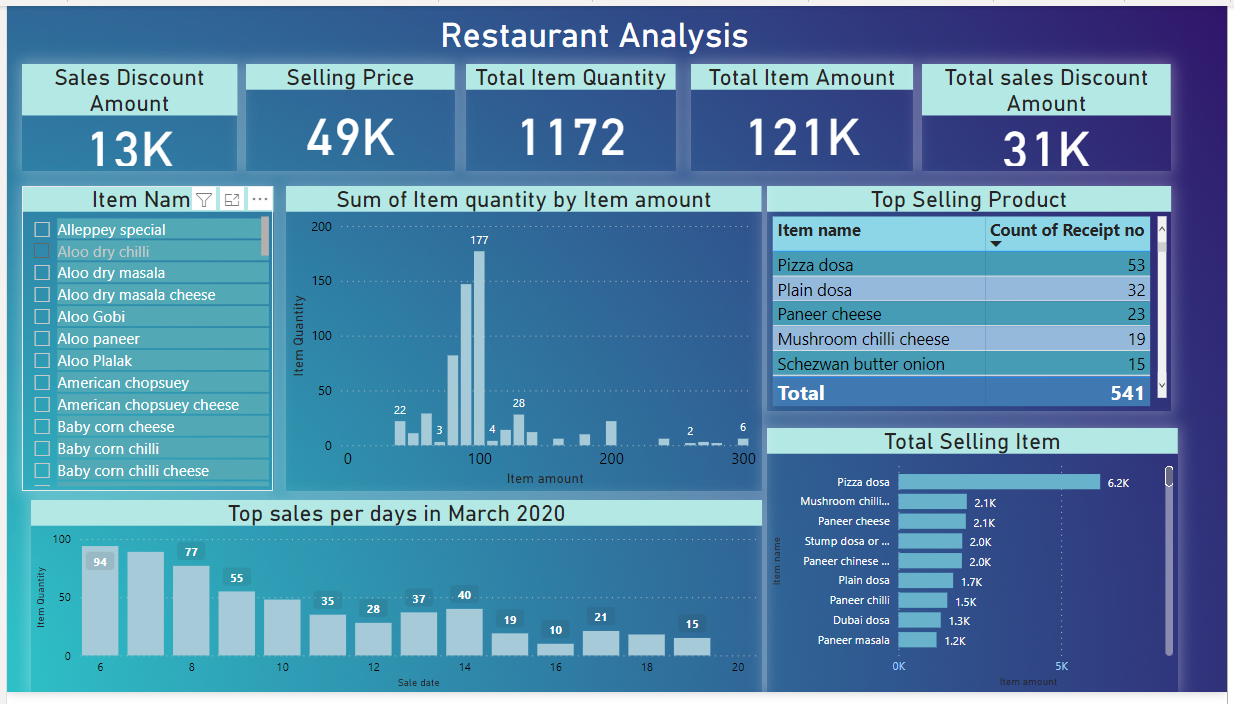

The page's visual inventory and layout, read from the dashboard file:
{"tool":"powerbi","page":{"name":"Page 1","canvas":[1280,720],"ordinal":0},"visuals":[{"type":"card","title":"Sales Discount Amount","fields":{"Values":["Sum(DataSet_Restaurant.Sales discount amount)"]},"box":[15.7,60.9,225.6,112.3],"z":0},{"type":"card","title":"Selling Price","fields":{"Values":["Sum(DataSet_Restaurant.Selling price)"]},"box":[250.8,60.9,219.3,112.3],"z":1000},{"type":"card","title":"Total Item Quantity","fields":{"Values":["Sum(DataSet_Restaurant.total quantity)"]},"box":[481.6,60.9,220.3,112.3],"z":2000},{"type":"card","title":"Total Item  Amount","fields":{"Values":["Sum(DataSet_Restaurant.total item amount)"]},"box":[717.6,60.9,232.9,112.3],"z":3000},{"type":"card","title":"Total sales Discount Amount","fields":{"Values":["Sum(DataSet_Restaurant.total sales discount amount)"]},"box":[960,60.9,261.2,112.3],"z":4000},{"type":"slicer","title":"Item Name","fields":{"Values":["DataSet_Restaurant.Item name"]},"box":[15.5,188.7,263.9,320],"z":5000},{"type":"tableEx","title":"Top Selling Product","fields":{"Values":["DataSet_Restaurant.Item name","DataSet_Restaurant.Receipt no"]},"box":[797.6,188.7,423.9,236.4],"z":6000},{"type":"barChart","title":"Total Selling Item","fields":{"Category":["DataSet_Restaurant.Item name"],"Y":["Sum(DataSet_Restaurant.Item amount)"]},"box":[797.4,442.8,431.2,277],"z":7000},{"type":"columnChart","title":"Sum of Item quantity by Item amount","fields":{"Category":["DataSet_Restaurant.Item amount"],"Y":["Sum(DataSet_Restaurant.Item quantity)"]},"box":[292.7,188.9,499.4,320],"z":8000},{"type":"actionButton","title":"Restaurant Analysis","box":[360.6,9.6,511,41.8],"z":9000},{"type":"columnChart","title":"Top sales per days in March 2020","fields":{"Category":["Restaurant (2).Sale date"],"Y":["Sum(Restaurant (2).Item quantity)"]},"box":[24.9,518.1,767.4,202.3],"z":10000}]}

Visuals, with their boxes in screenshot pixels (x1, y1, x2, y2), scaled from the page's 1280x720 canvas onto the 1234x704 screenshot:
"Sales Discount Amount" card: 15,60,233,169
"Selling Price" card: 242,60,453,169
"Total Item Quantity" card: 464,60,677,169
"Total Item  Amount" card: 692,60,916,169
"Total sales Discount Amount" card: 926,60,1177,169
"Item Name" slicer: 15,185,269,497
"Top Selling Product" tableEx: 769,185,1178,416
"Total Selling Item" barChart: 769,433,1184,703
"Sum of Item quantity by Item amount" columnChart: 282,185,764,498
"Restaurant Analysis" actionButton: 348,9,840,50
"Top sales per days in March 2020" columnChart: 24,507,764,703
